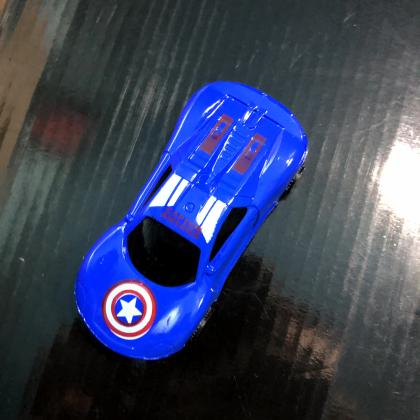Car: (73, 82, 309, 363)
